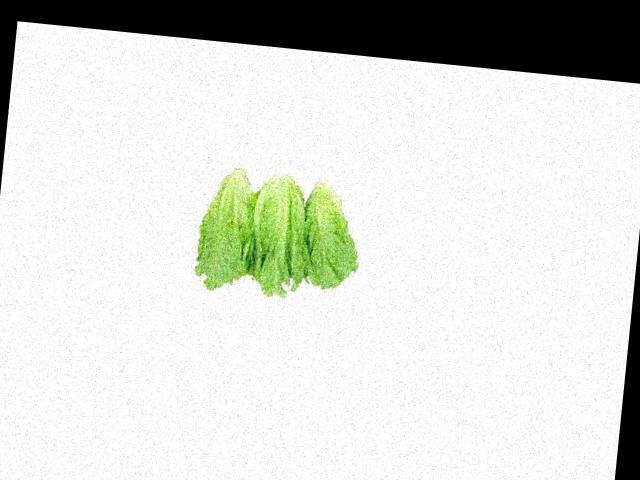lettuce: (191, 167, 362, 300)
